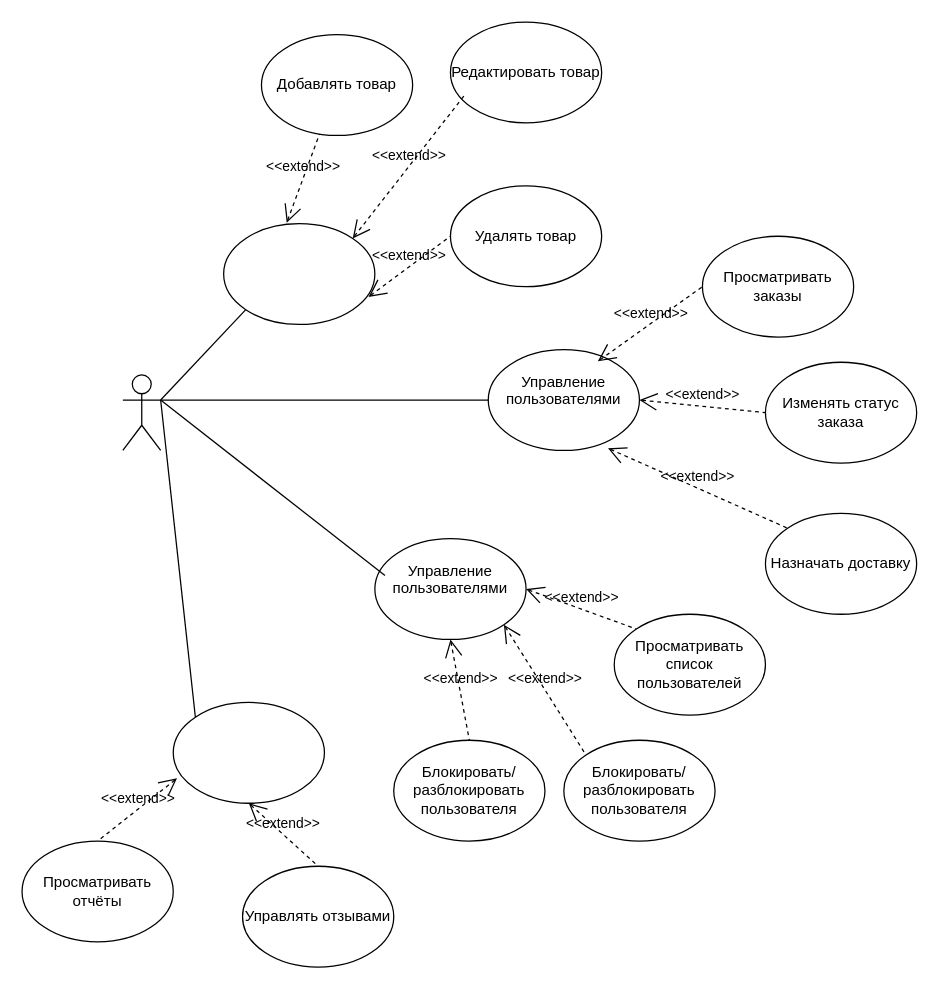
This 939x989 diagram has some shape labels left out. Here are the shapes that lost their labels. From the top down, the centre of each, then its label:
point (298, 273): Управление товарами
point (141, 412): Admin
point (248, 752): Управление контентом и приложением
